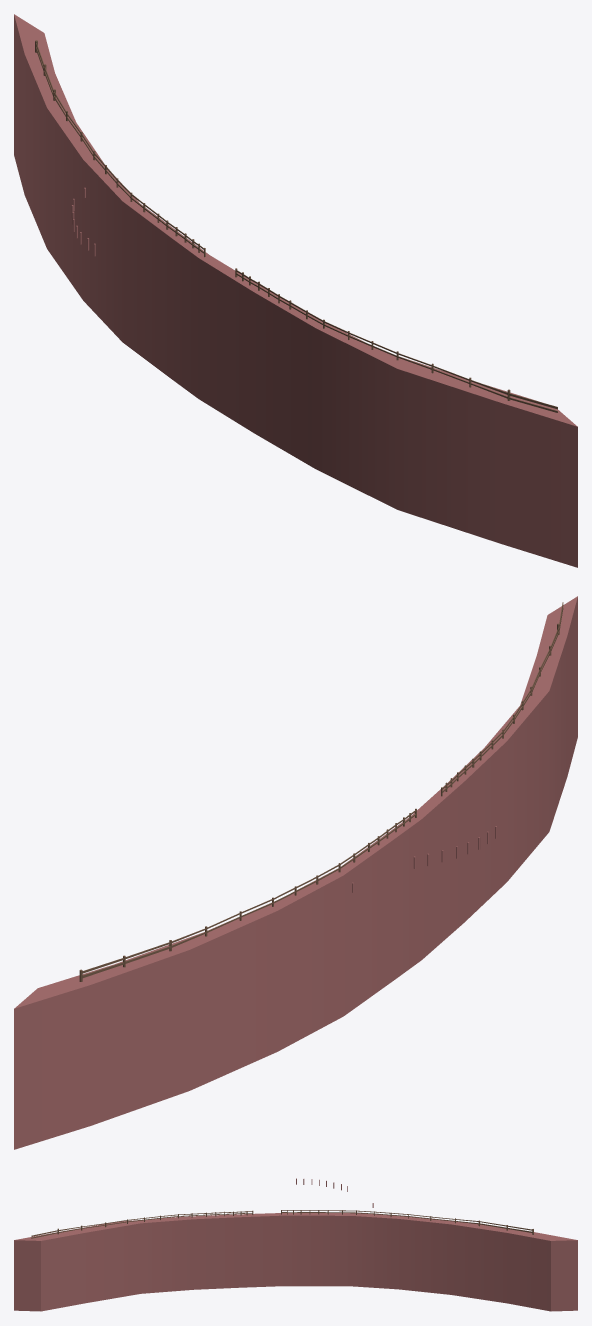
The model's file is Wall With Color.fbx.
The picture shows the model from 3 angles, top to bottom: view 1: azimuth 30°, elevation 25°; view 2: azimuth 150°, elevation 25°; view 3: azimuth 270°, elevation 25°; orthographic projection. The views are drawn at different scales.
Parts seen in each view (by area): view 1: Wall, Fence; view 2: Wall, Fence; view 3: Wall, Fence.
Part boxes in pixels (box(x1,y1,x2,y2)): Wall: box(14, 14, 577, 567); Fence: box(35, 40, 557, 412); Wall: box(14, 596, 577, 1149); Fence: box(79, 602, 563, 981); Wall: box(14, 1213, 577, 1311); Fence: box(31, 1210, 533, 1238).
Size of the model in its own units: 14.33 by 11.1 by 68.31.
